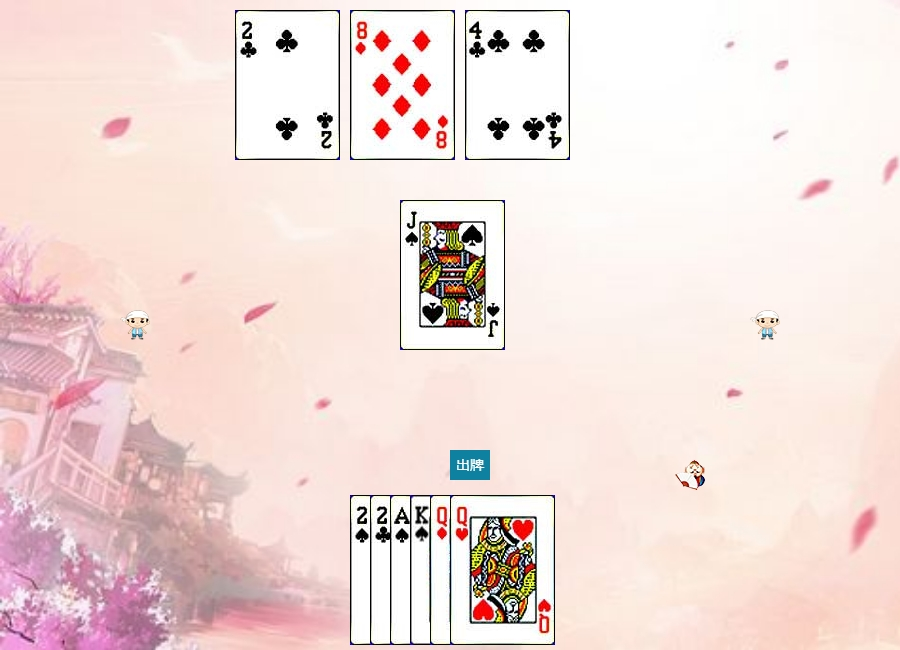11~4: (400, 200, 505, 350)
12~1: (430, 495, 535, 645)
12~3: (450, 495, 555, 645)
13~4: (410, 495, 515, 645)
14~4: (390, 495, 495, 645)
15~2: (235, 10, 340, 160), (370, 495, 475, 645)
15~4: (350, 495, 455, 645)
4~2: (465, 10, 570, 160)
8~1: (350, 10, 455, 160)
